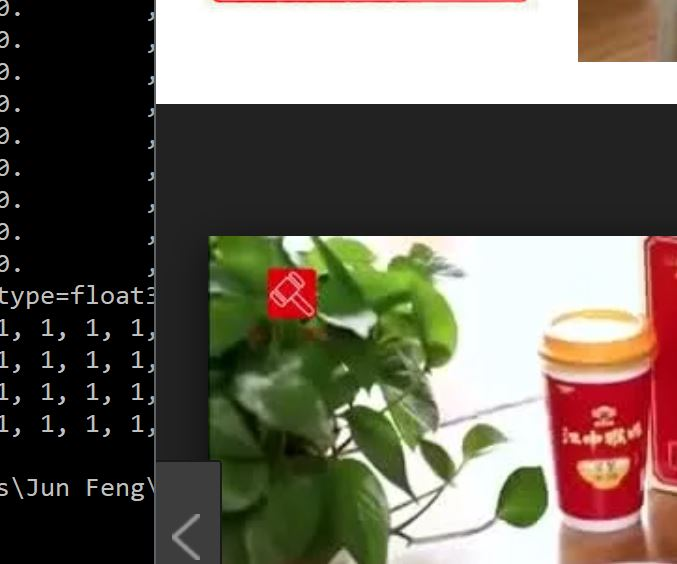cup: (542, 312, 655, 533)
